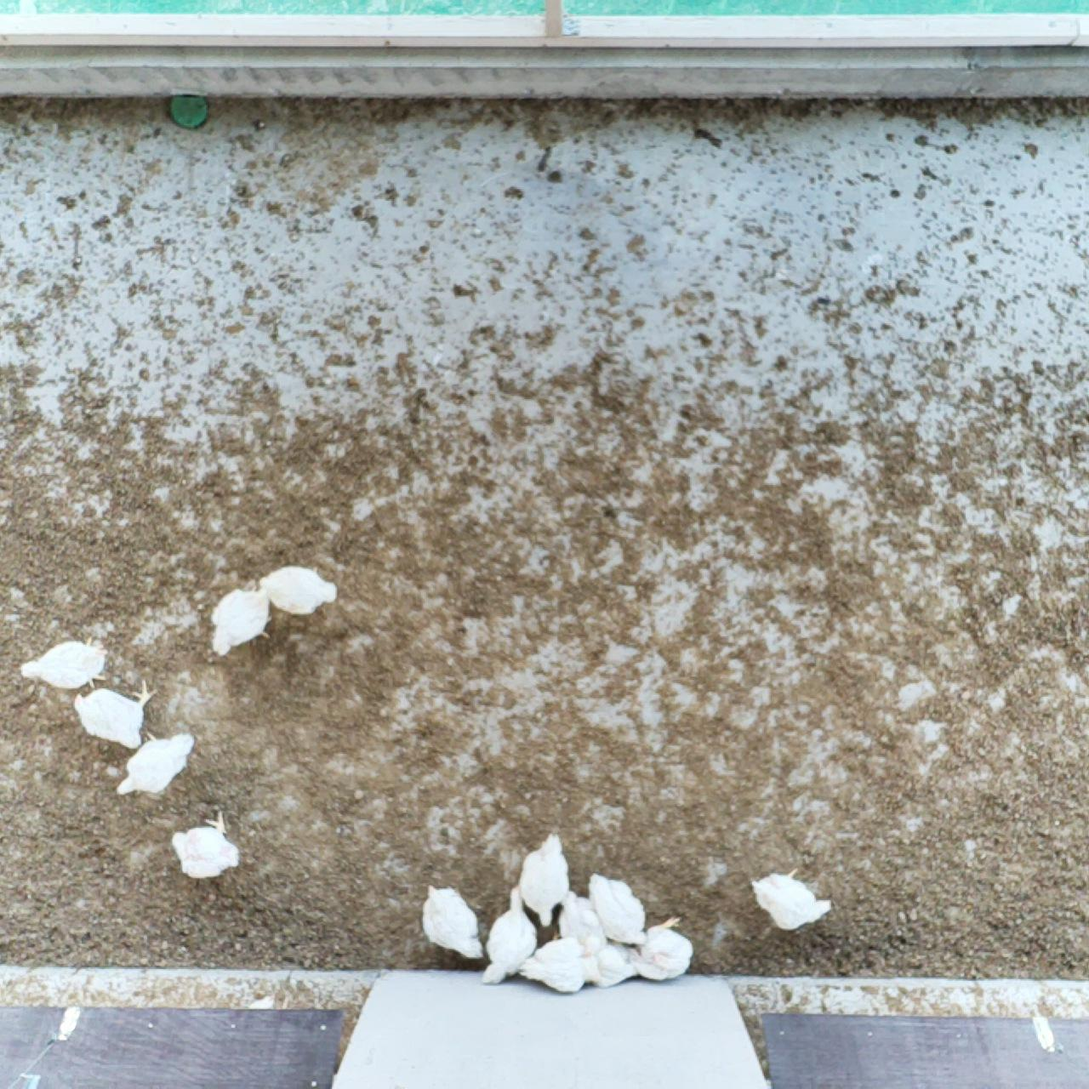chicken: (741, 857, 833, 939), (478, 883, 542, 992), (416, 877, 488, 969), (514, 828, 575, 934), (74, 678, 158, 754), (113, 730, 202, 800), (17, 630, 113, 694), (204, 576, 277, 660), (586, 865, 652, 952), (168, 805, 242, 881), (258, 557, 340, 623), (516, 933, 600, 997), (629, 913, 704, 984), (553, 884, 605, 945), (591, 938, 645, 992)
